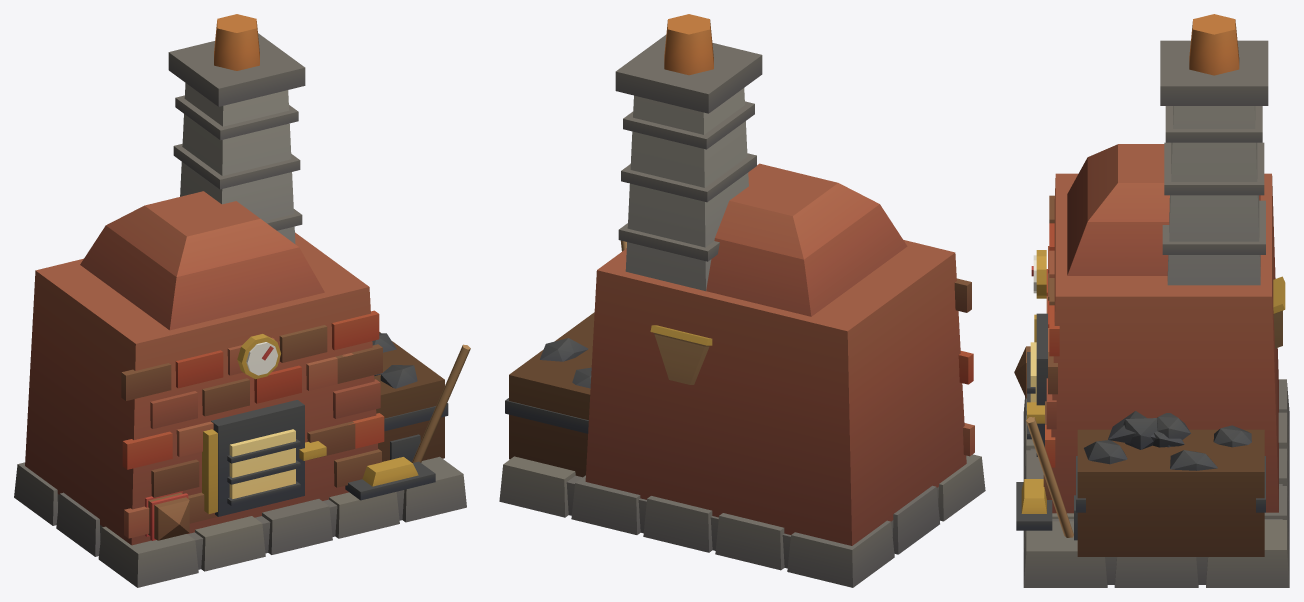
Rendered from mach_furnace.glb.
3 views of the same model, side by side, from view 1: azimuth 30°, elevation 25°; view 2: azimuth 150°, elevation 25°; view 3: azimuth 270°, elevation 25° (orthographic). The views are drawn at different scales.
Parts seen in each view (by area): view 1: mach_furnace; view 2: mach_furnace; view 3: mach_furnace.
Boxes of the visible parts, <box> form: mach_furnace: <box>14,14,470,587</box>; mach_furnace: <box>499,14,985,587</box>; mach_furnace: <box>1014,14,1289,587</box>.
Size of the model in its own units: 5.81 by 7.5 by 3.83.
1 material, 1 textured.
